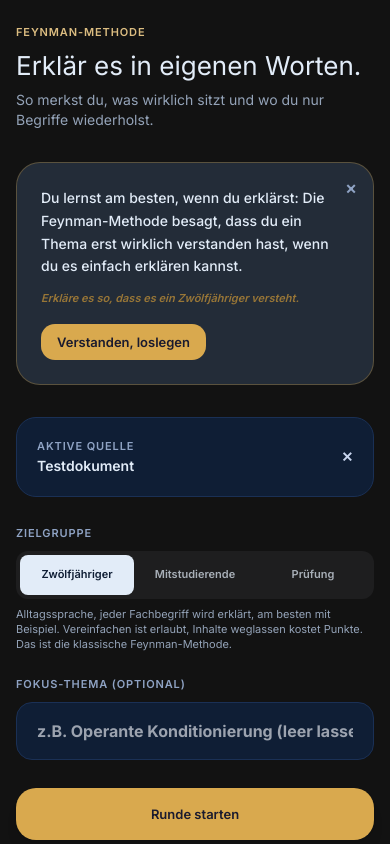
Test case: ActiveRecall — Feynman-Workflow-Bug: Fix 1 (Nächster Drill) + Fix 2 (Leseforschritt-Grenze) › Test G: der Verlauf bekommt den Quellnamen als docName, nicht das Thema
Click the button "Runde starten" at (195, 814), box [16,788,374,840]
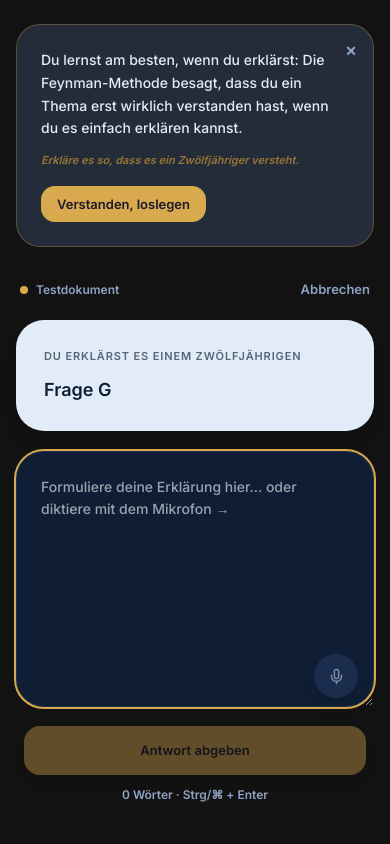
Expected: the text "Frage G" is shown, [44,379,111,400]
Replace the text in the text box with placeholder "Formuliere deine Erklärung hier... oder diktiere mit dem Mikrofon →" with "Eine ausreichend lange Testantwort für die Bewertung." at (195, 578), box [16,450,374,706]
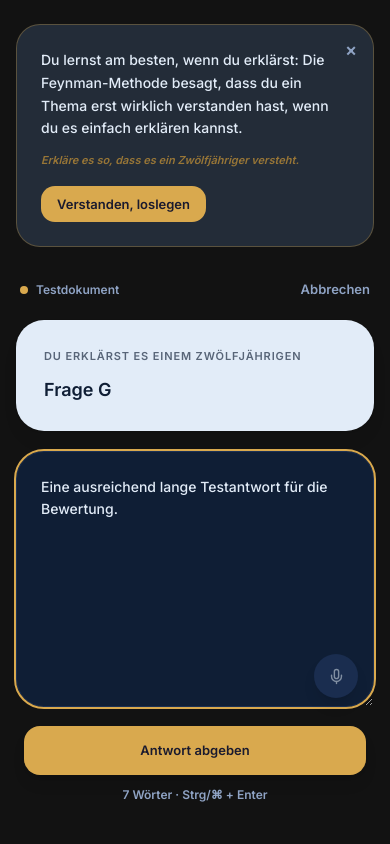
Click the button "Antwort abgeben" at (195, 750), box [24,726,366,775]
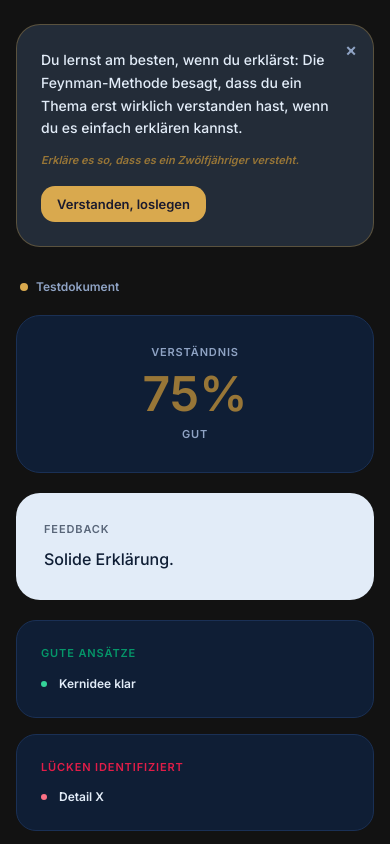
Expected: the text "75%" is shown, [143,370,247,418]
